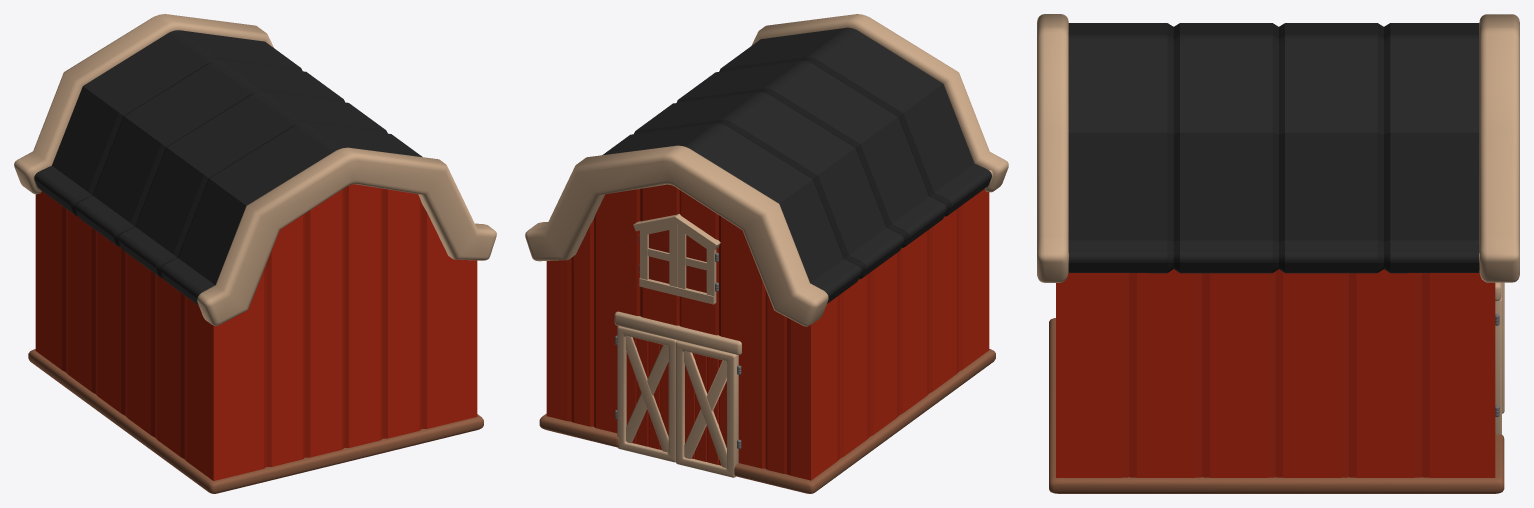
Rendered from Building7.fbx.
3 renders of one model, left to right at view 1: azimuth 30°, elevation 25°; view 2: azimuth 150°, elevation 25°; view 3: azimuth 270°, elevation 25°, orthographic. The views are drawn at different scales.
Parts seen in each view (by area): view 1: Cylinder.006; view 2: Cylinder.006, Plane.001, Cylinder.010; view 3: Cylinder.006, Cylinder.010.
Boxes of the visible parts, x1,y1,x2,y2 form: Cylinder.006: (14, 14, 496, 493); Cylinder.006: (525, 14, 1008, 493); Plane.001: (675, 340, 741, 477); Cylinder.010: (615, 326, 677, 462); Cylinder.006: (1037, 14, 1519, 493); Cylinder.010: (1495, 282, 1501, 434).
Size of the model in its own units: 9.88 by 11.46 by 10.09.
